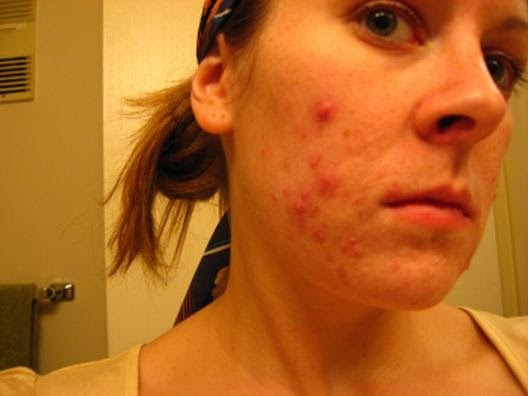Acne: (271, 82, 360, 268)
